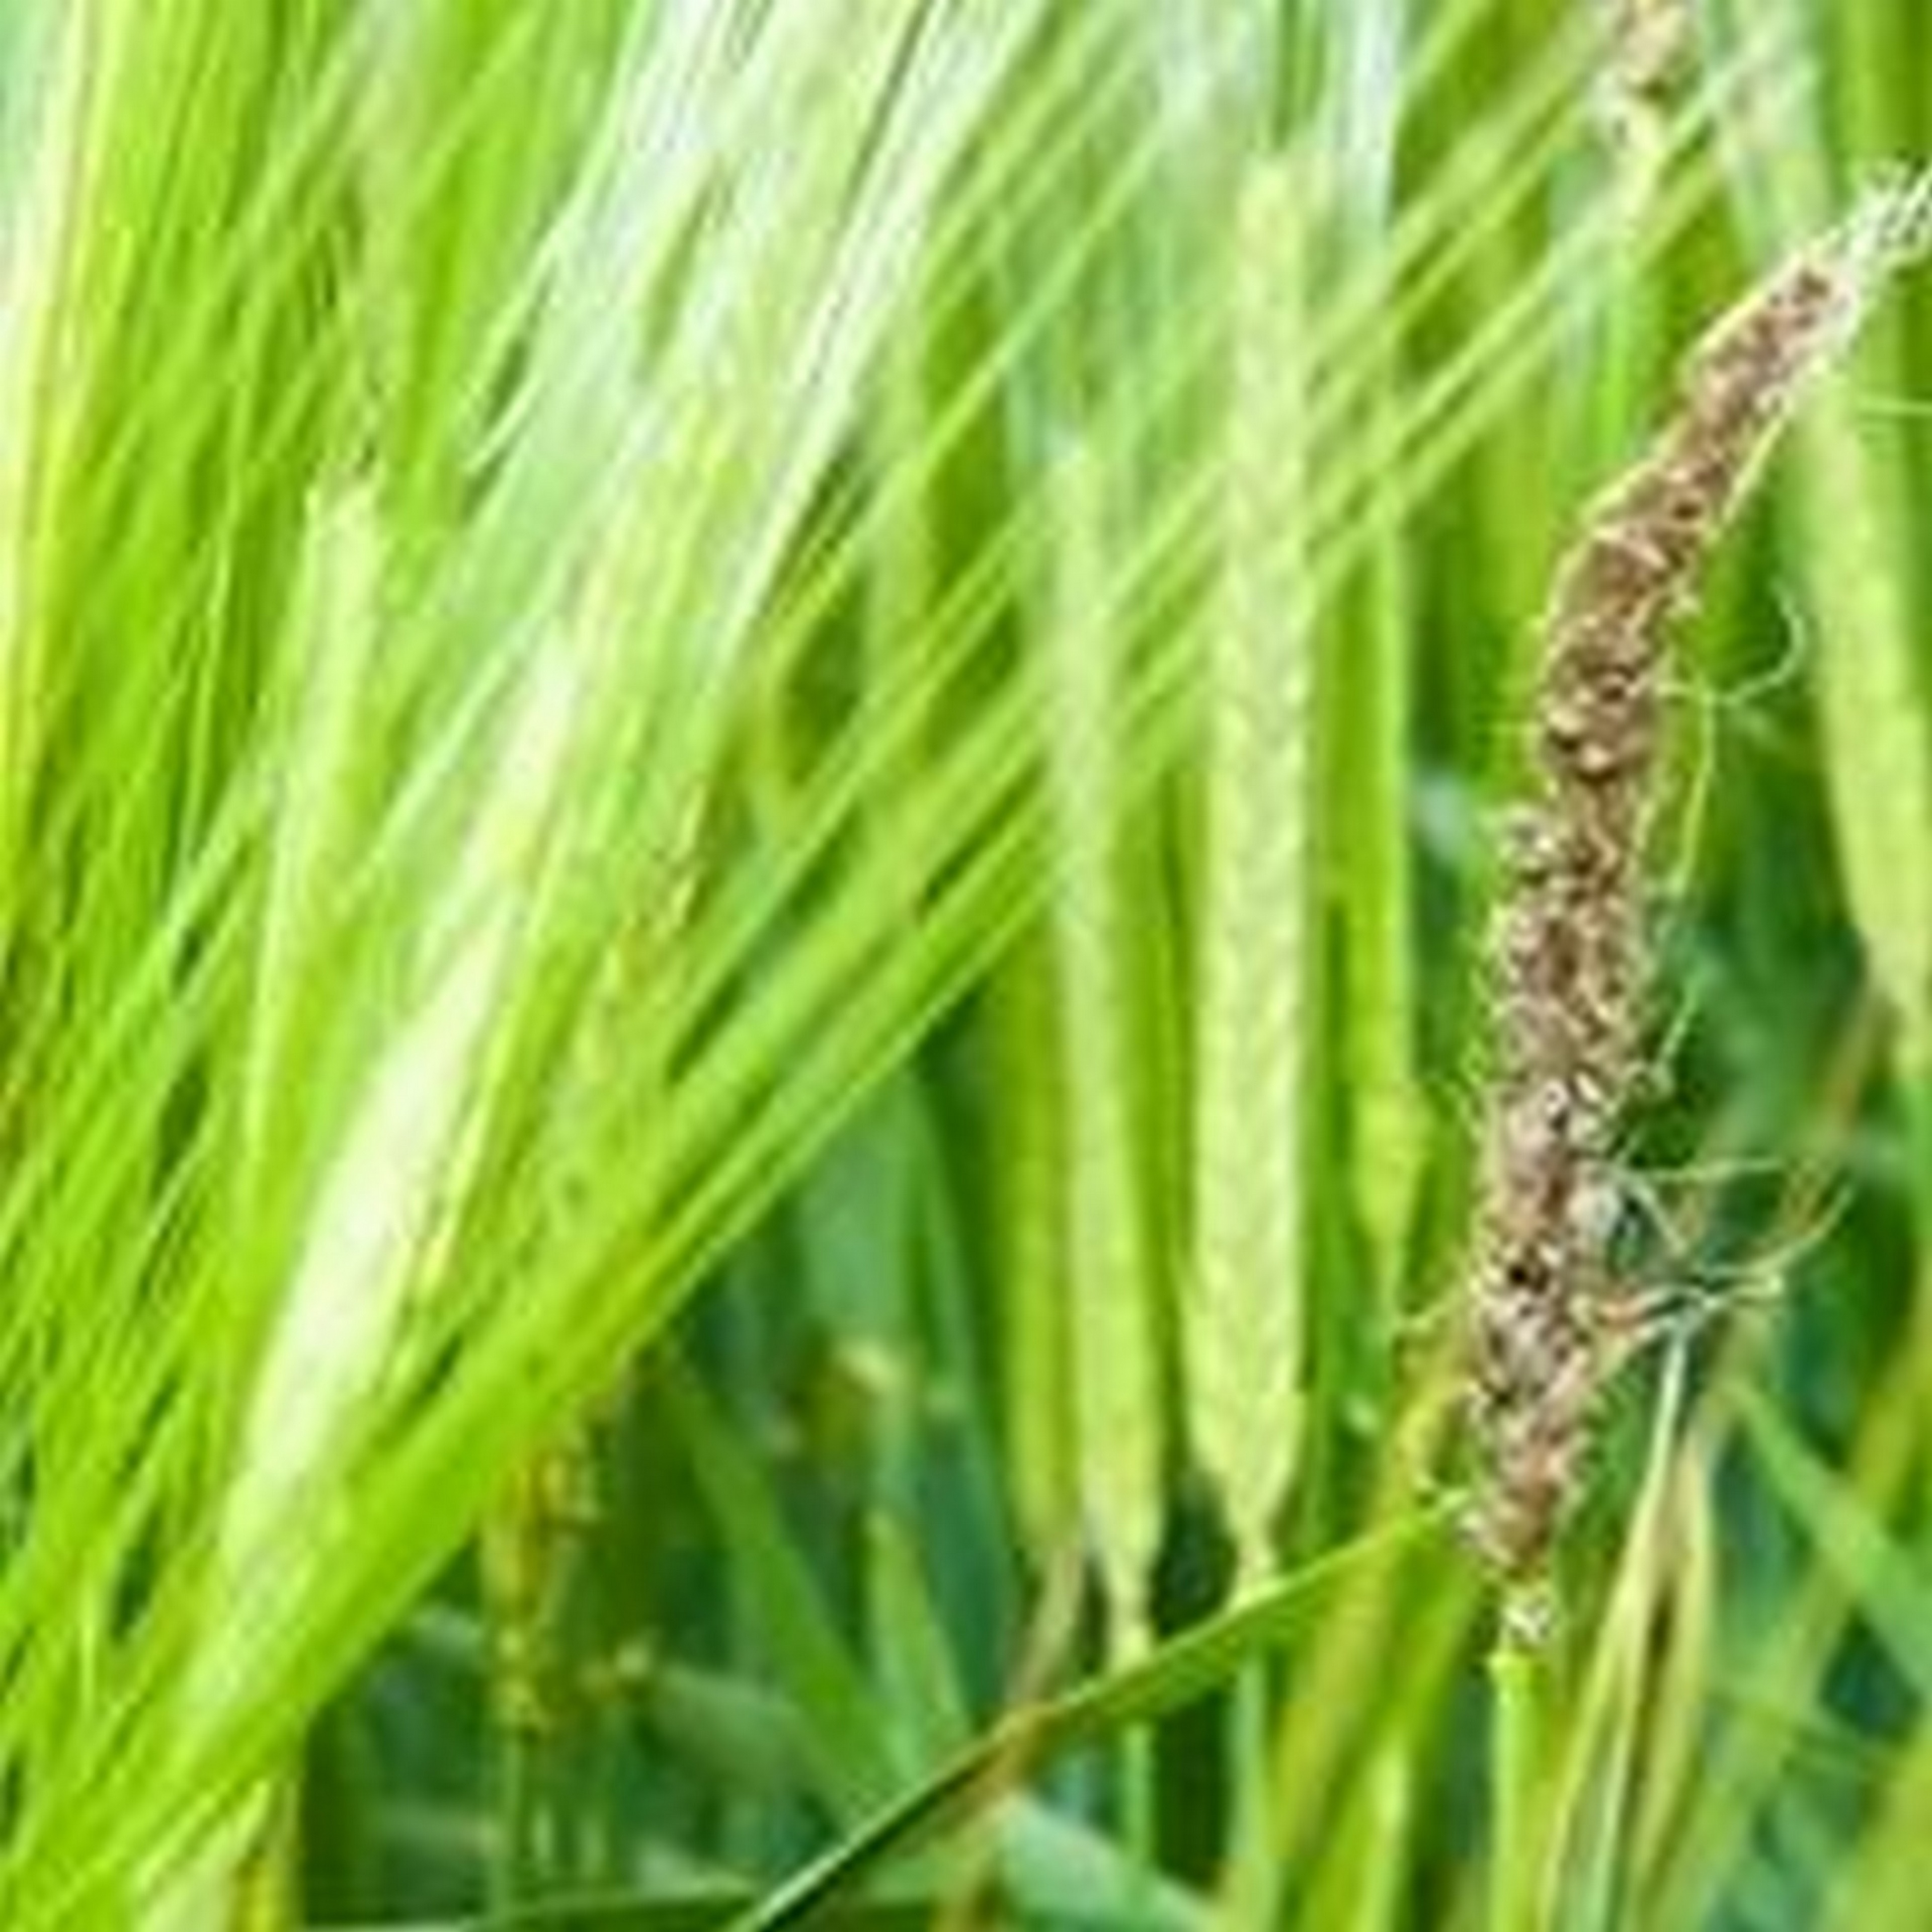Wheat Loose Smut: (1444, 251, 1856, 1520)
